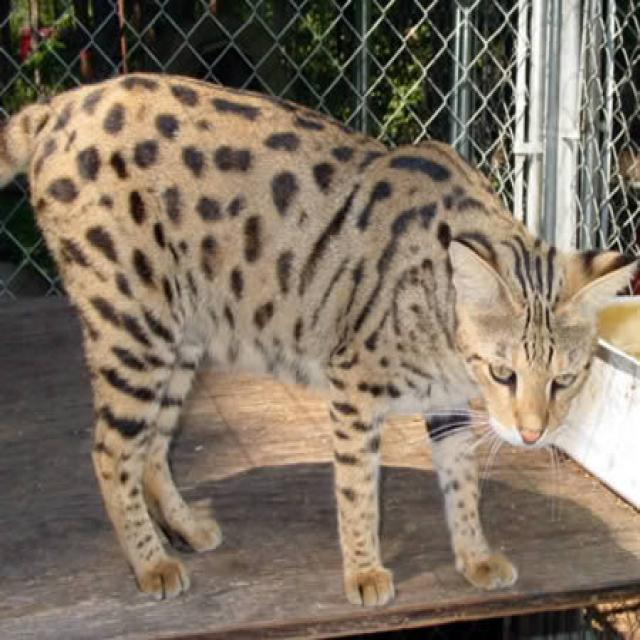cat: (445, 232, 636, 448)
